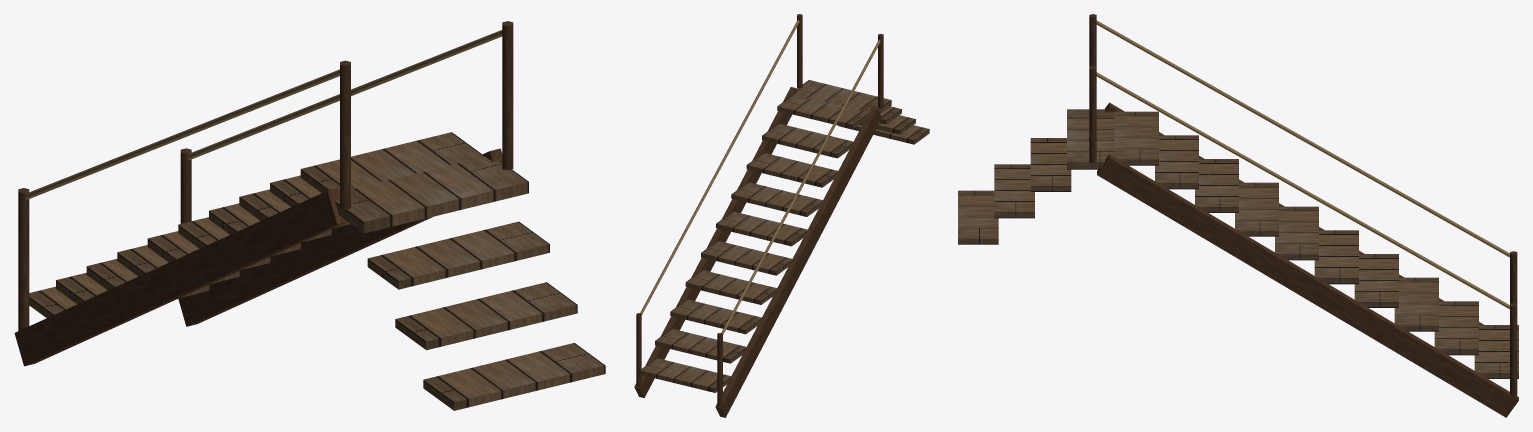
The model's file is SM_Art_BoardingStair_410x252x112.gltf.
3 renders of one model, left to right at view 1: azimuth 30°, elevation 25°; view 2: azimuth 150°, elevation 25°; view 3: azimuth 270°, elevation 25°, orthographic. The views are drawn at different scales.
Parts seen in each view (by area): view 1: SM_Art_BoardingStair_410x252x112; view 2: SM_Art_BoardingStair_410x252x112; view 3: SM_Art_BoardingStair_410x252x112.
Boxes of the visible parts, x1=… form: SM_Art_BoardingStair_410x252x112: x1=14, y1=21, x2=605, y2=410; SM_Art_BoardingStair_410x252x112: x1=634, y1=14, x2=929, y2=417; SM_Art_BoardingStair_410x252x112: x1=958, y1=14, x2=1518, y2=417.
Bounding box in the file's own units: 1.26 × 3.7 × 5.4.
Materials: 3 (3 with a texture image).
